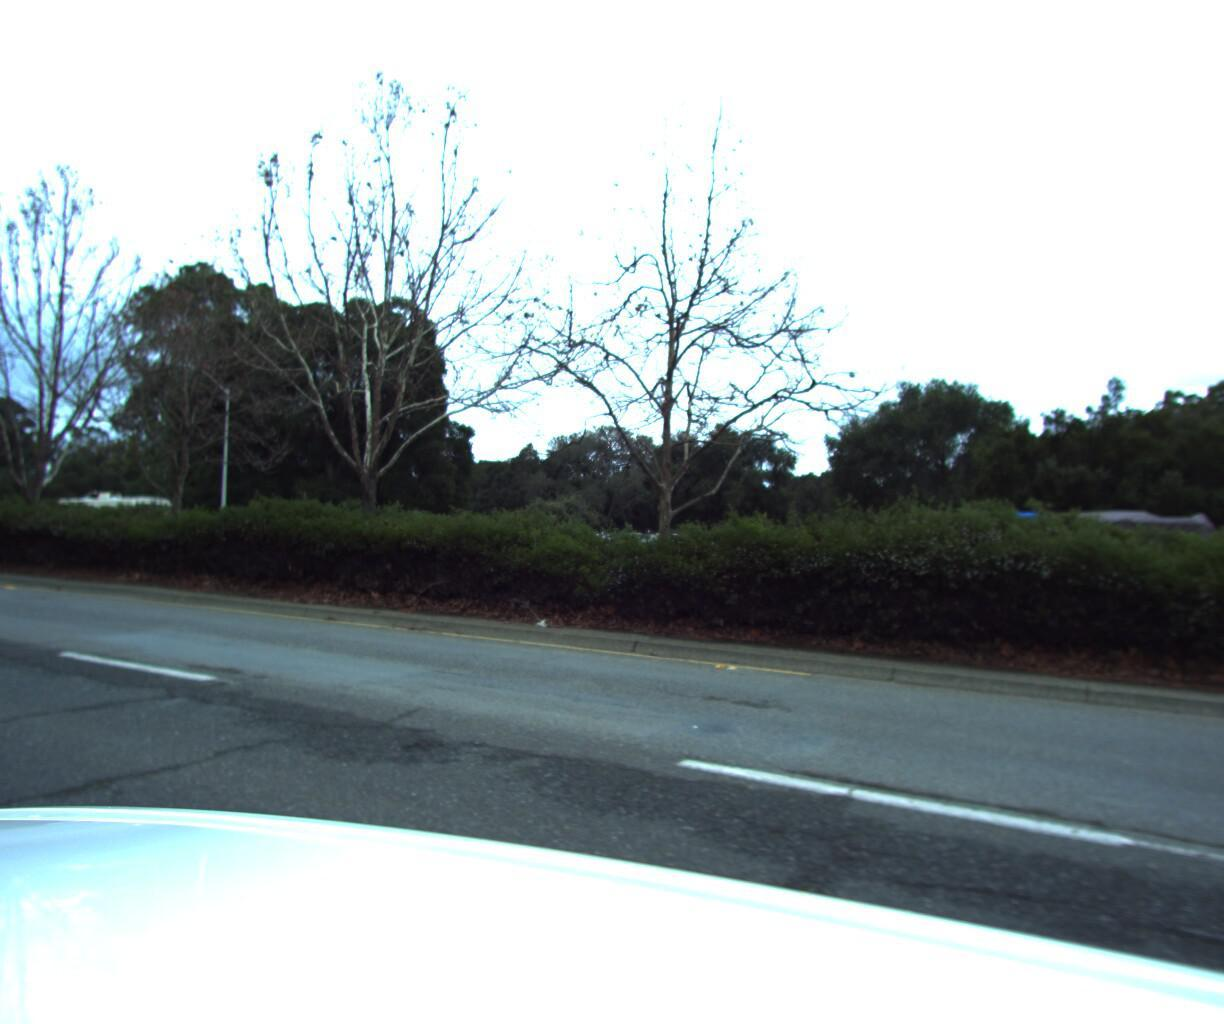other_vehicle: (945, 504, 1217, 589), (33, 485, 184, 551), (0, 483, 4, 545)
